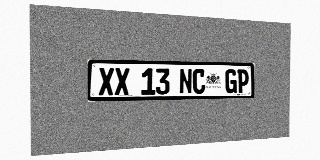1: (141, 68, 155, 95)
3: (156, 68, 169, 95)
C: (193, 69, 205, 94)
G: (225, 69, 237, 93)
N: (179, 69, 192, 94)
P: (237, 69, 249, 93)
X: (99, 68, 114, 95), (115, 68, 130, 95)
